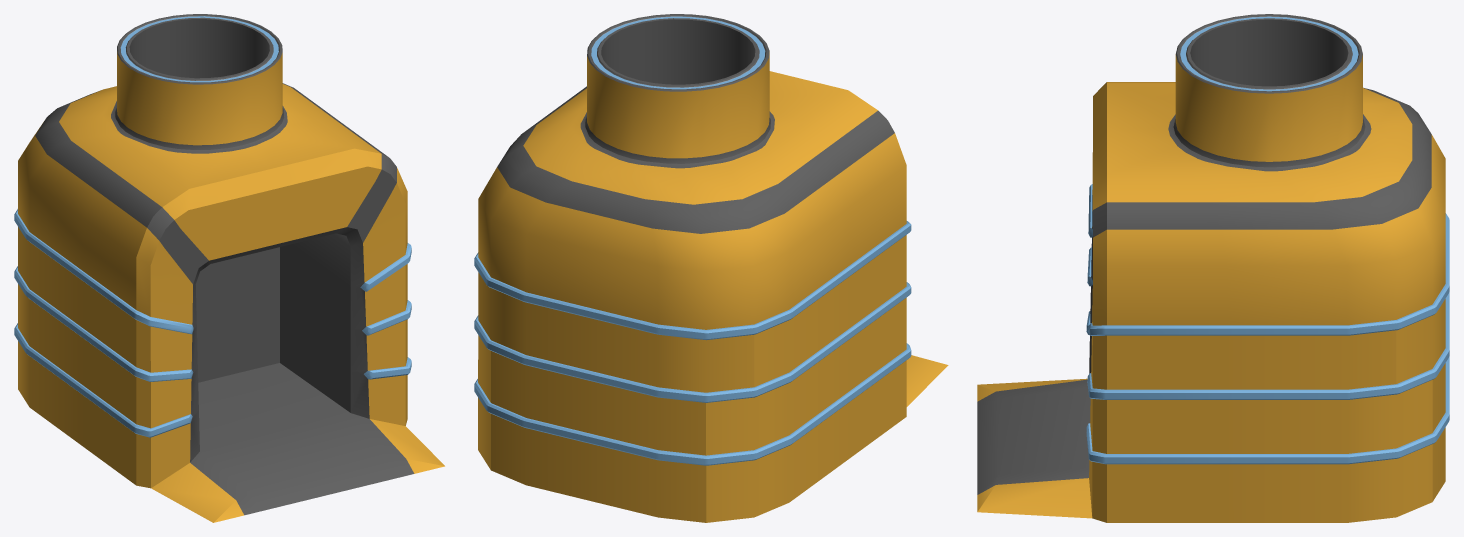
The model's file is interactible_recycler.glb.
3 renders of one model, left to right at view 1: azimuth 30°, elevation 25°; view 2: azimuth 150°, elevation 25°; view 3: azimuth 270°, elevation 25°, orthographic. The views are drawn at different scales.
Parts seen in each view (by area): view 1: Recycler; view 2: Recycler; view 3: Recycler.
Boxes of the visible parts, <box> form: Recycler: <box>14,14,444,522</box>; Recycler: <box>474,14,948,522</box>; Recycler: <box>977,14,1449,522</box>.
Bounding box in the file's own units: 1.02 × 1.24 × 1.34.
